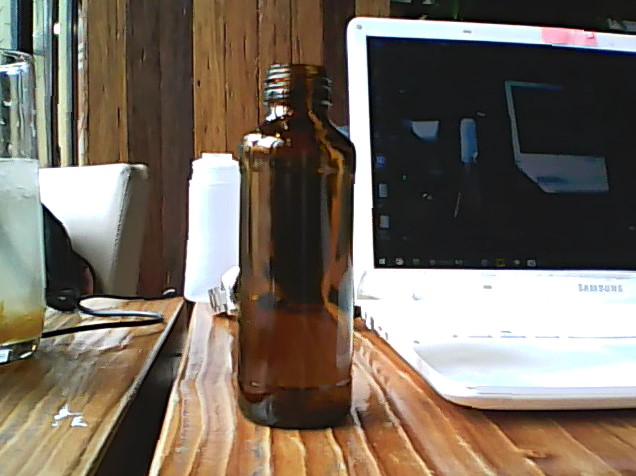Glass: (235, 62, 359, 435)
